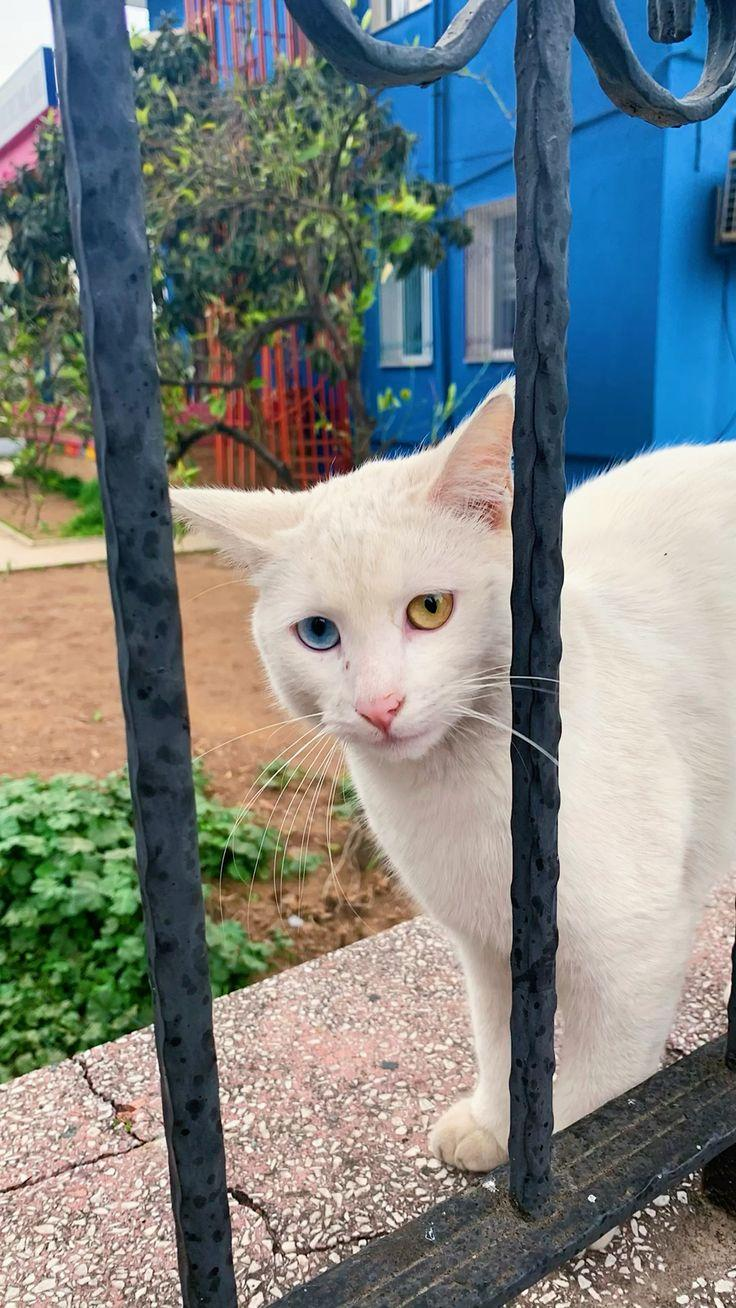kedo: (168, 393, 509, 1171)
